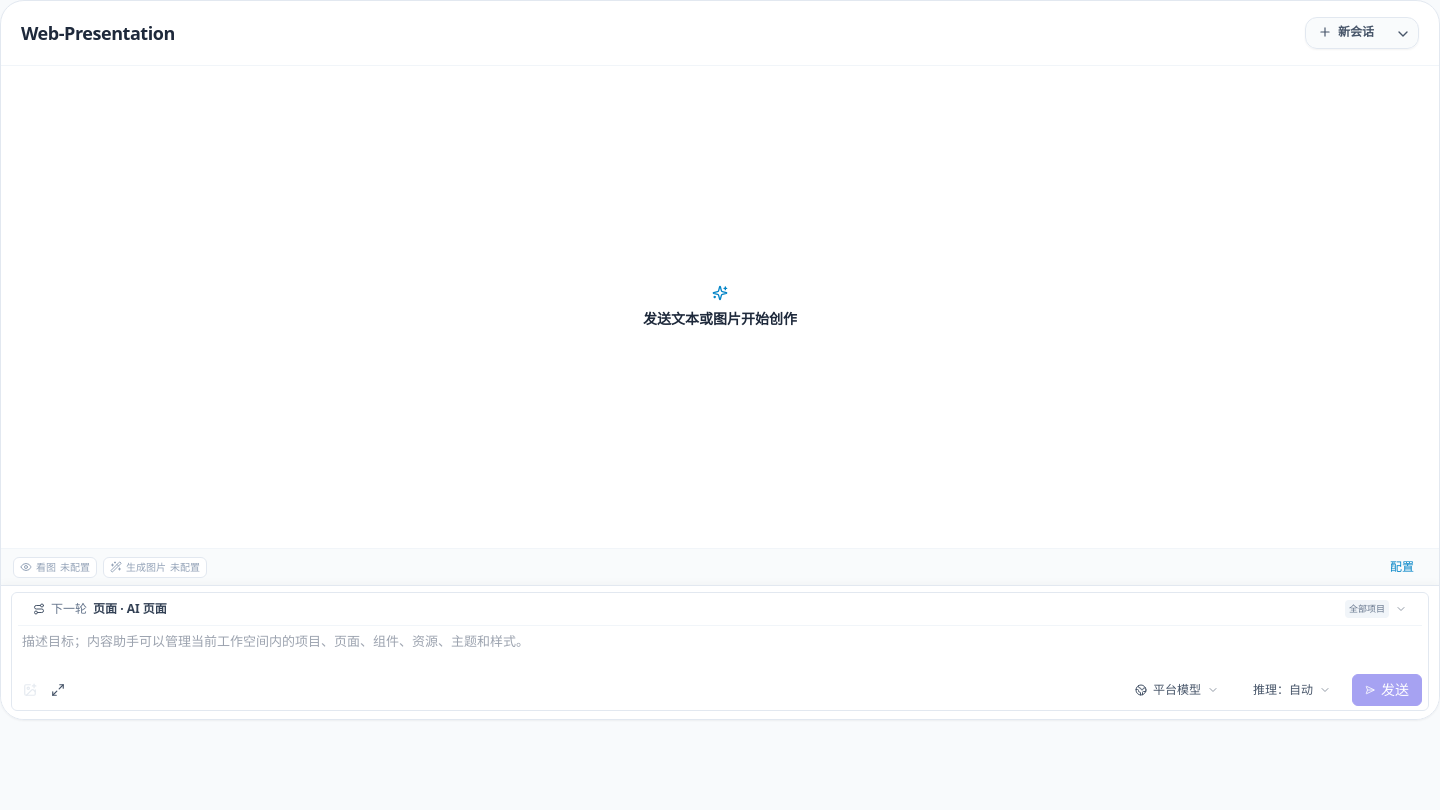
Scenario: AgentConversationPanel › reasoning 后工具参数静默阶段不应本地推断等待输出提示
Type "帮我整理页面资源" into the text box with placeholder "描述目标；内容助手可以管理当前工作空间内的项目、页面、组件、资源、主题和样式。".
click(720, 648); type("帮我整理页面资源")  # box [18,630,1422,666]
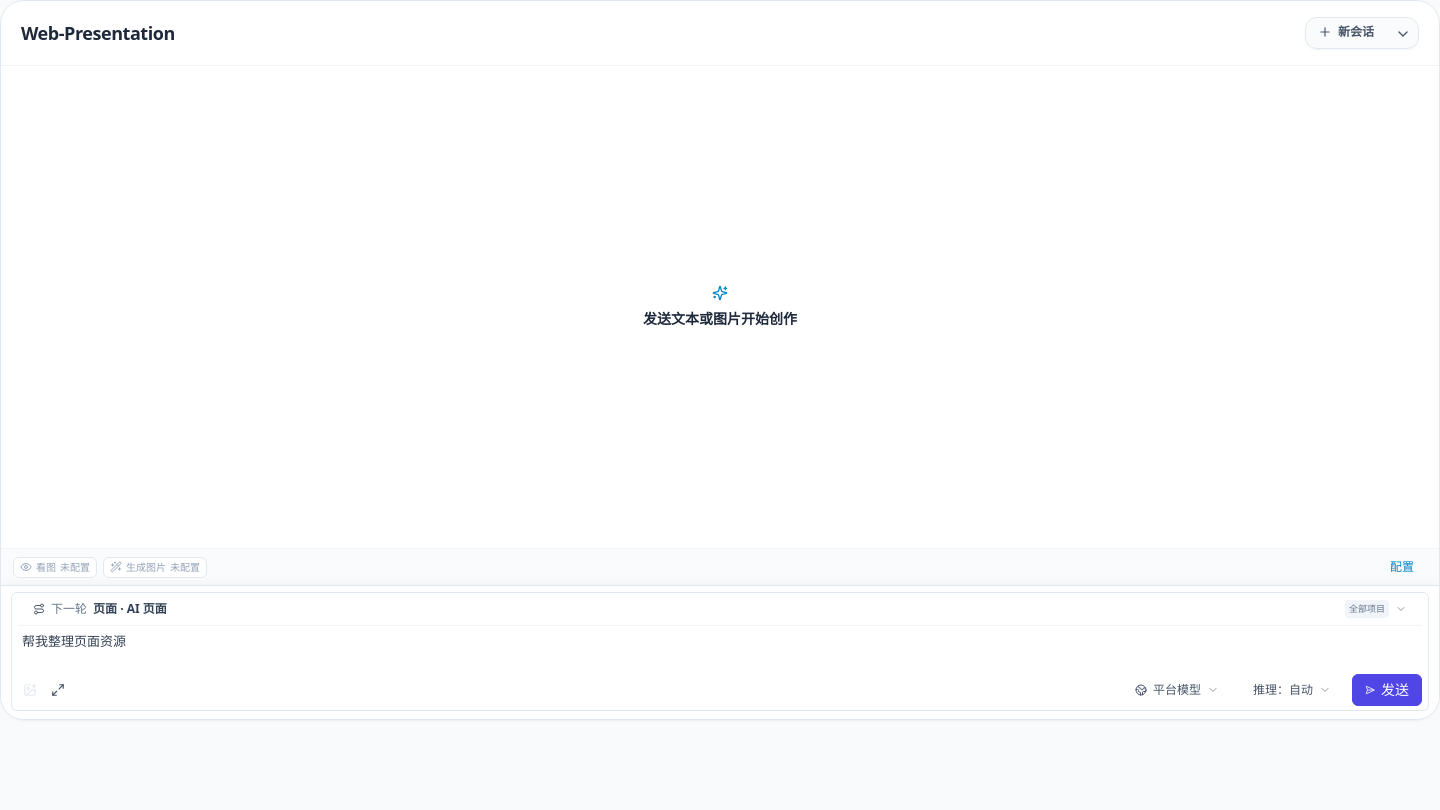
Click the button "发送".
click(1387, 690)  # box [1352,674,1422,706]
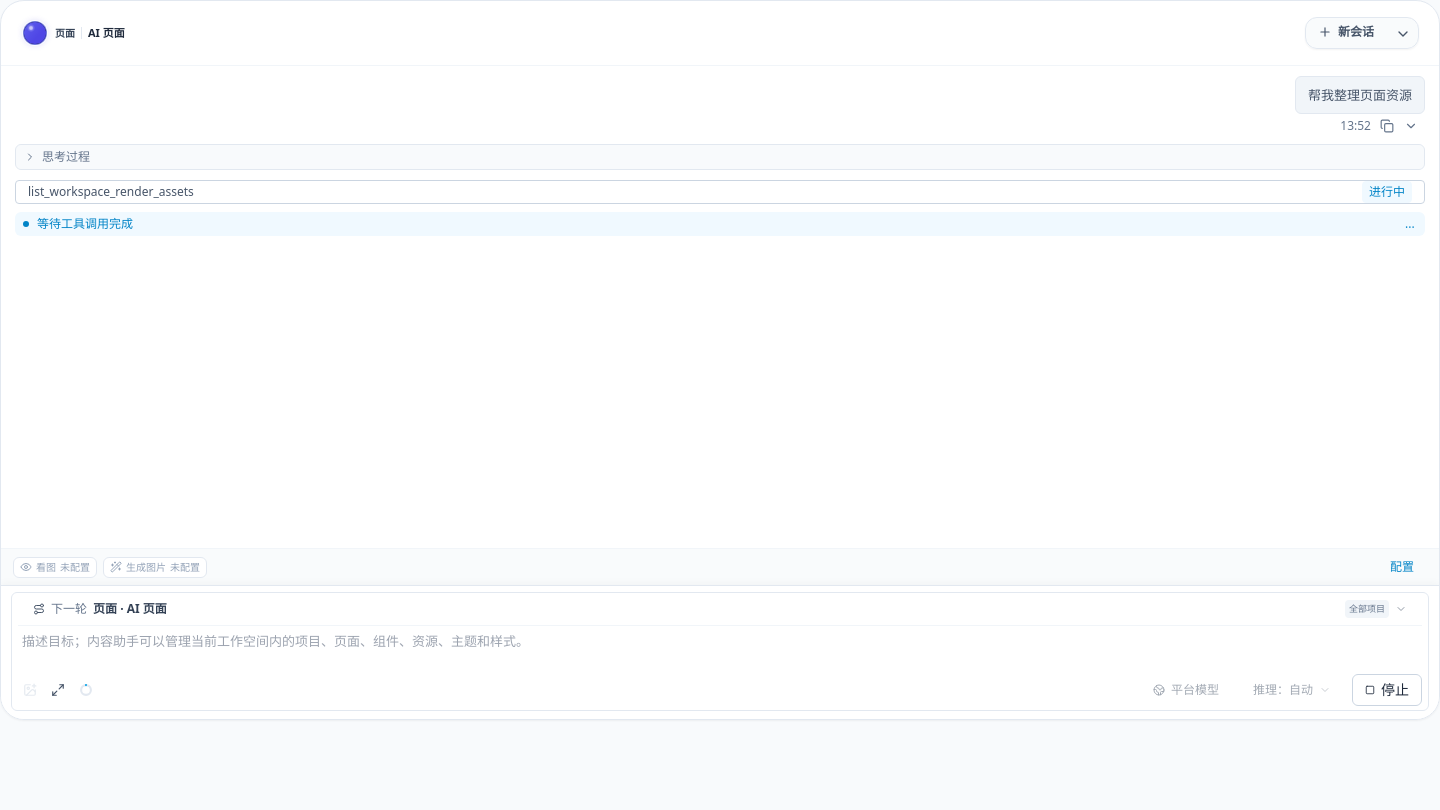
Expected: the text "思考中" is shown, [42,149,90,165]
Expected: the button "list_workspace_render_assets 进行中" is shown, [15,180,1425,204]
